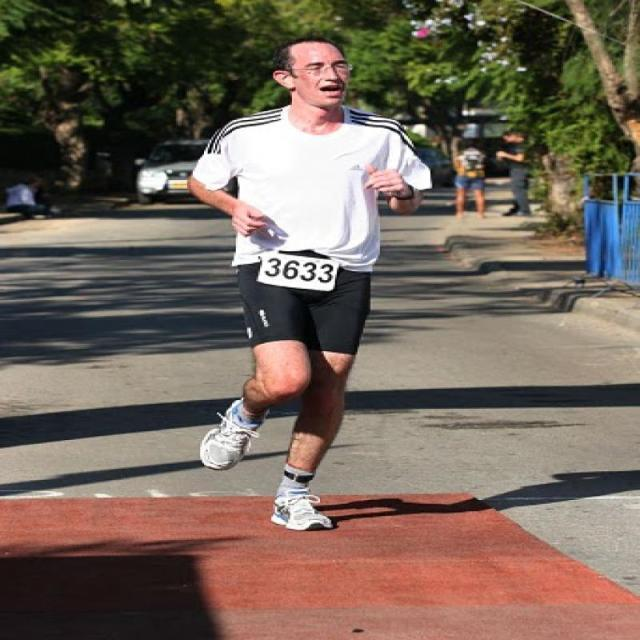dorsal: (252, 248, 346, 296)
